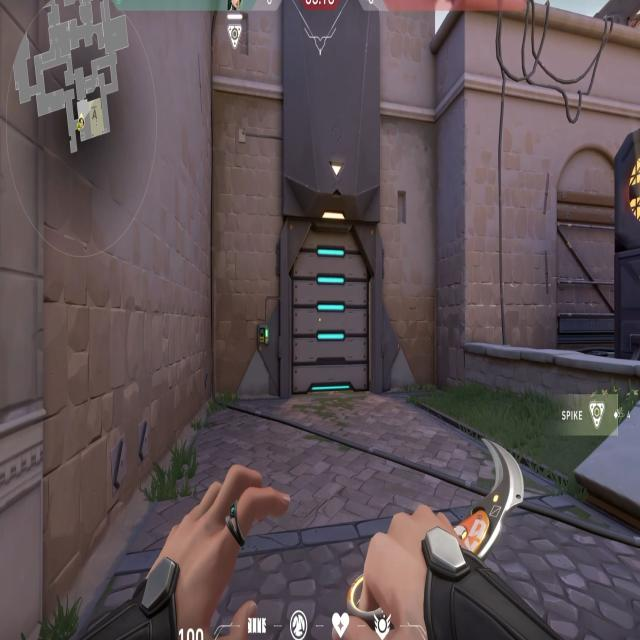A_Door: (276, 195, 382, 415)
